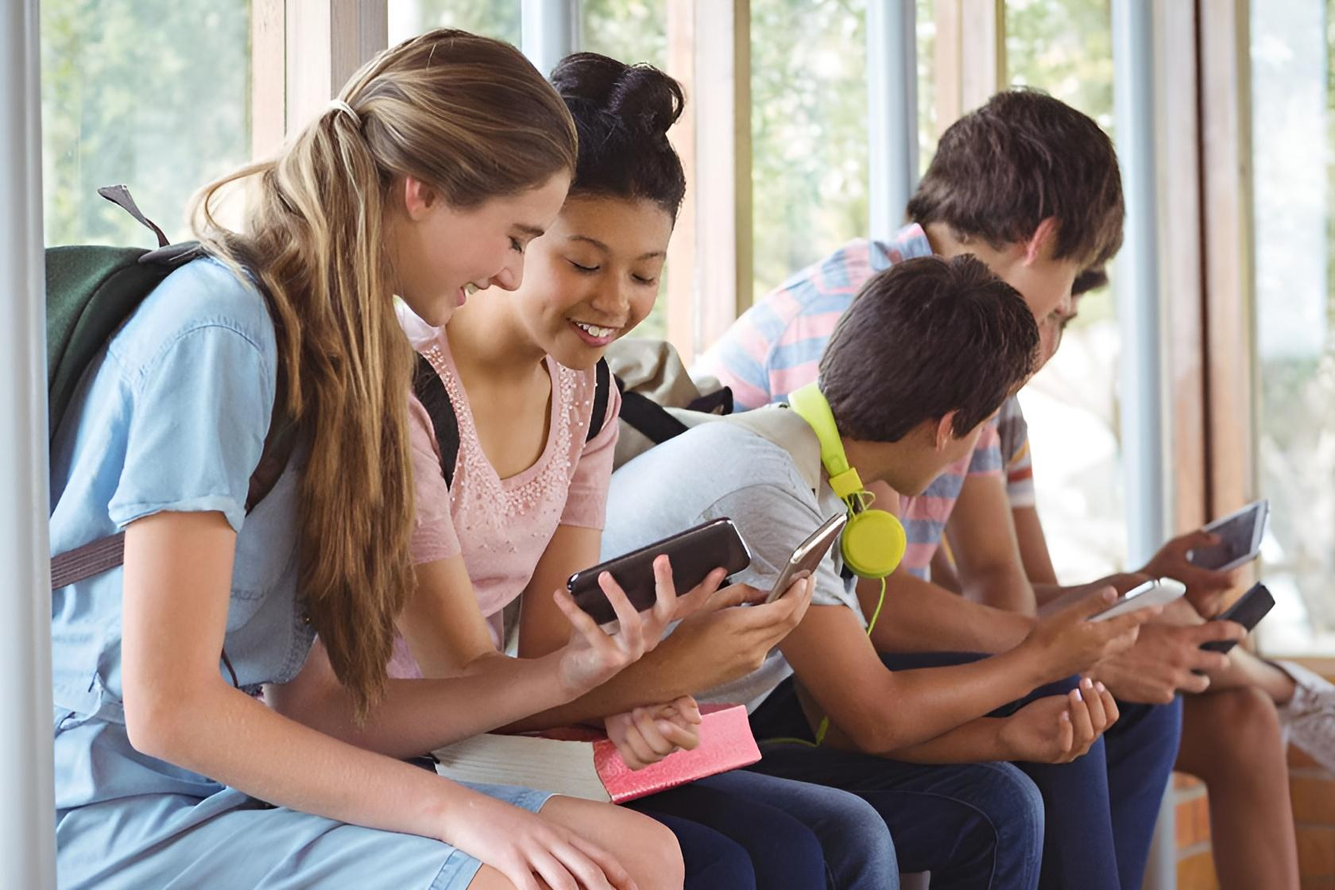phone: (46, 30, 749, 890), (743, 85, 1273, 704), (405, 57, 853, 779), (572, 264, 1190, 766), (964, 256, 1265, 571)
